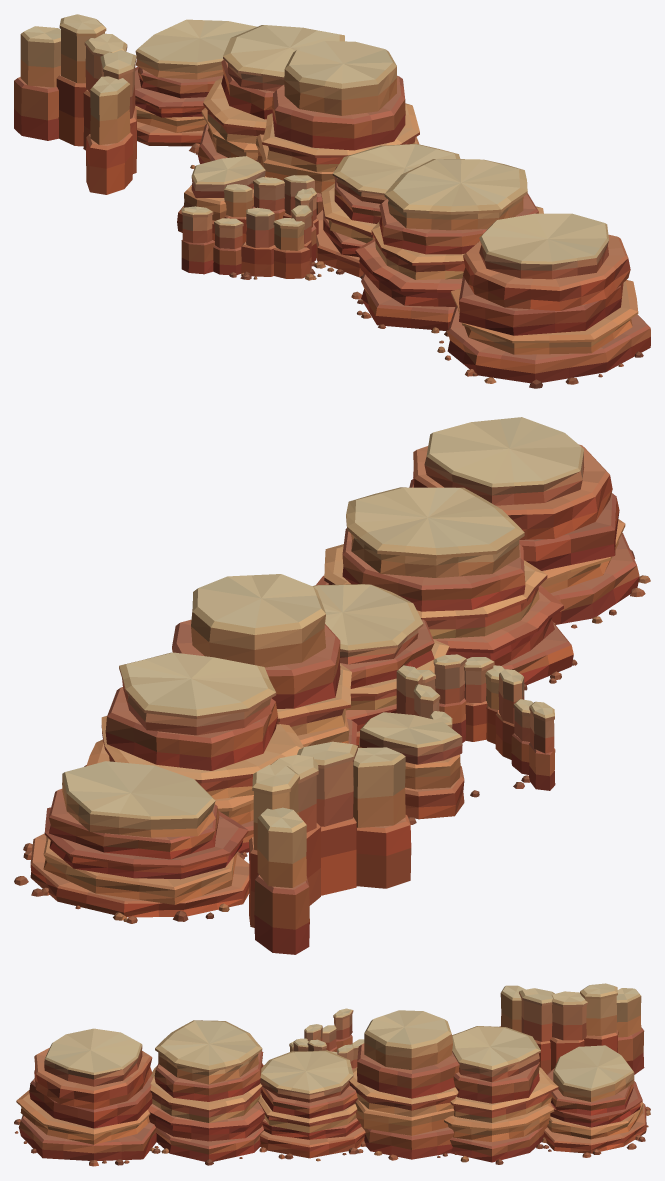
Rendered from cliffs-east.glb.
3 views of the same model, one above another, from view 1: azimuth 30°, elevation 25°; view 2: azimuth 150°, elevation 25°; view 3: azimuth 270°, elevation 25° (orthographic). The views are drawn at different scales.
Visible parts, largest first — view 1: cliffs-east; view 2: cliffs-east; view 3: cliffs-east.
Boxes of the visible parts, box(x1,y1,x2,y2) form: cliffs-east: box(14, 14, 650, 388); cliffs-east: box(14, 417, 650, 954); cliffs-east: box(14, 983, 650, 1166).
Bounding box in the file's own units: 56.32 × 24.16 × 136.
